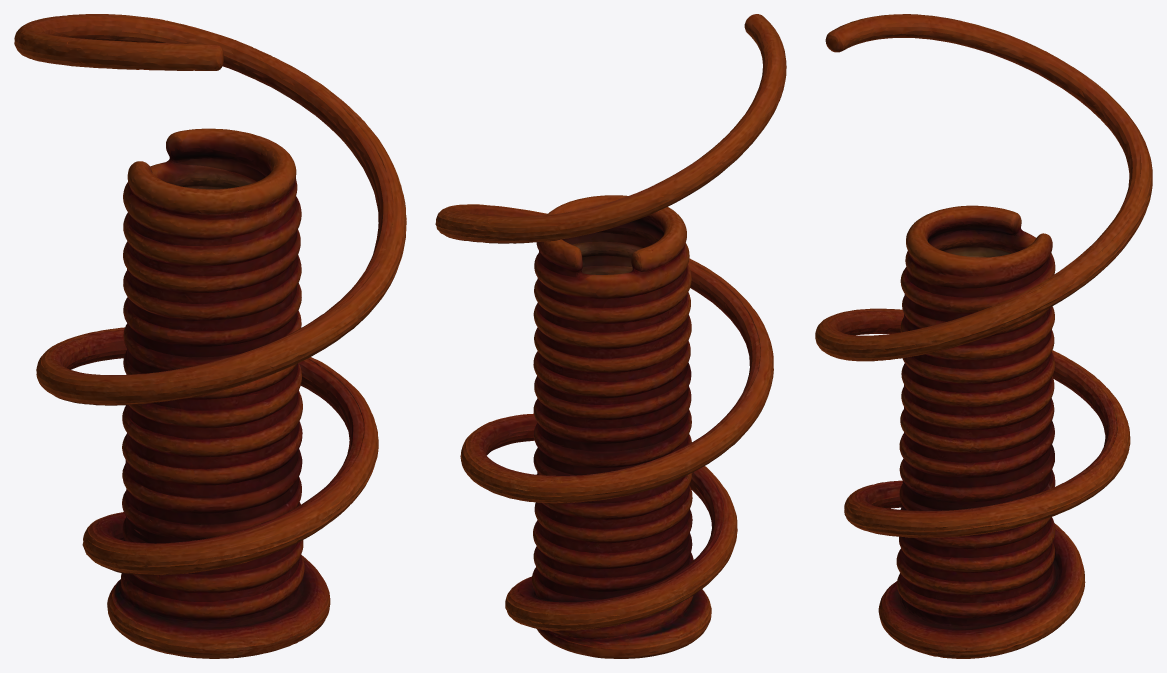
Rendered from 03_3_gj_vase1.glb.
3 renders of one model, left to right at view 1: azimuth 30°, elevation 25°; view 2: azimuth 150°, elevation 25°; view 3: azimuth 270°, elevation 25°, orthographic. The views are drawn at different scales.
Visible parts, largest first — view 1: tripo_node_447728c1-be42-4c13-a922-c5ab92438b34.002; view 2: tripo_node_447728c1-be42-4c13-a922-c5ab92438b34.002; view 3: tripo_node_447728c1-be42-4c13-a922-c5ab92438b34.002.
Boxes of the visible parts, x1,y1,x2,y2 form: tripo_node_447728c1-be42-4c13-a922-c5ab92438b34.002: (14, 14, 406, 658); tripo_node_447728c1-be42-4c13-a922-c5ab92438b34.002: (435, 14, 786, 658); tripo_node_447728c1-be42-4c13-a922-c5ab92438b34.002: (815, 14, 1152, 658).
Bounding box in the file's own units: 0.2 × 0.3643 × 0.2.
1 material, 1 textured.
